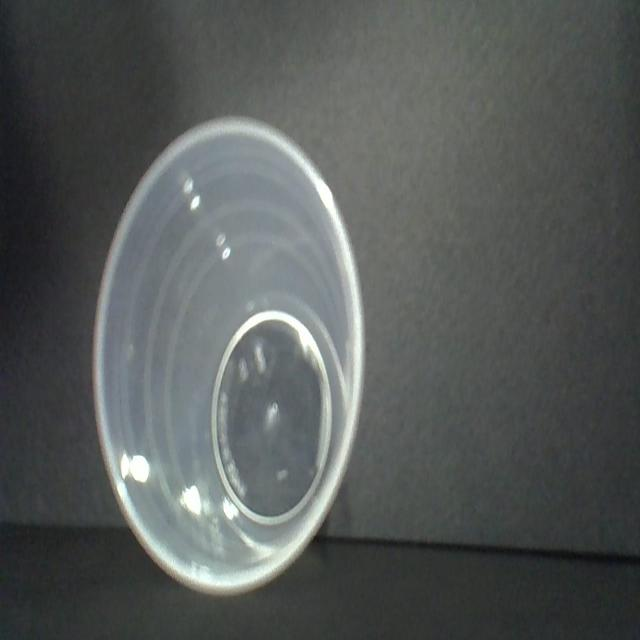cup: (96, 113, 368, 593)
